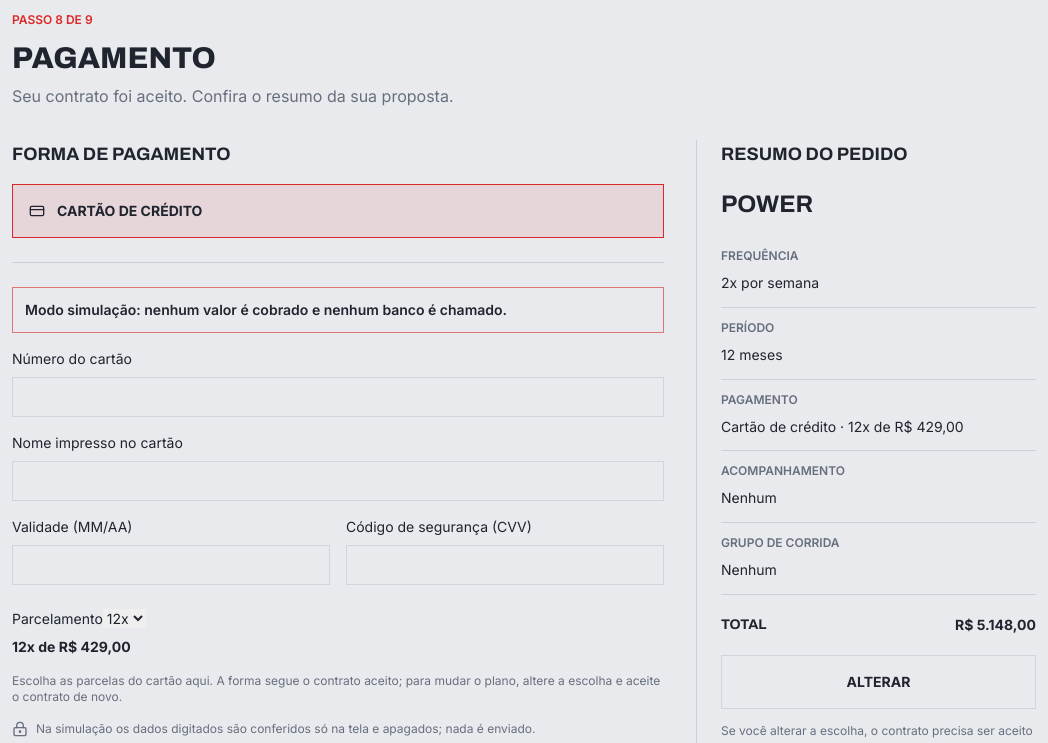
Test: parcelas escolhidas na etapa final de pagamento › trocar para 6x recalcula o valor na hora e envia a escolha ao servidor
Later steps or results of the test are not shown.
Select "6x" in the dropdown labelled "Parcelamento 12x de R$ 429,00" at x=124, y=618, box [103,609,146,628]
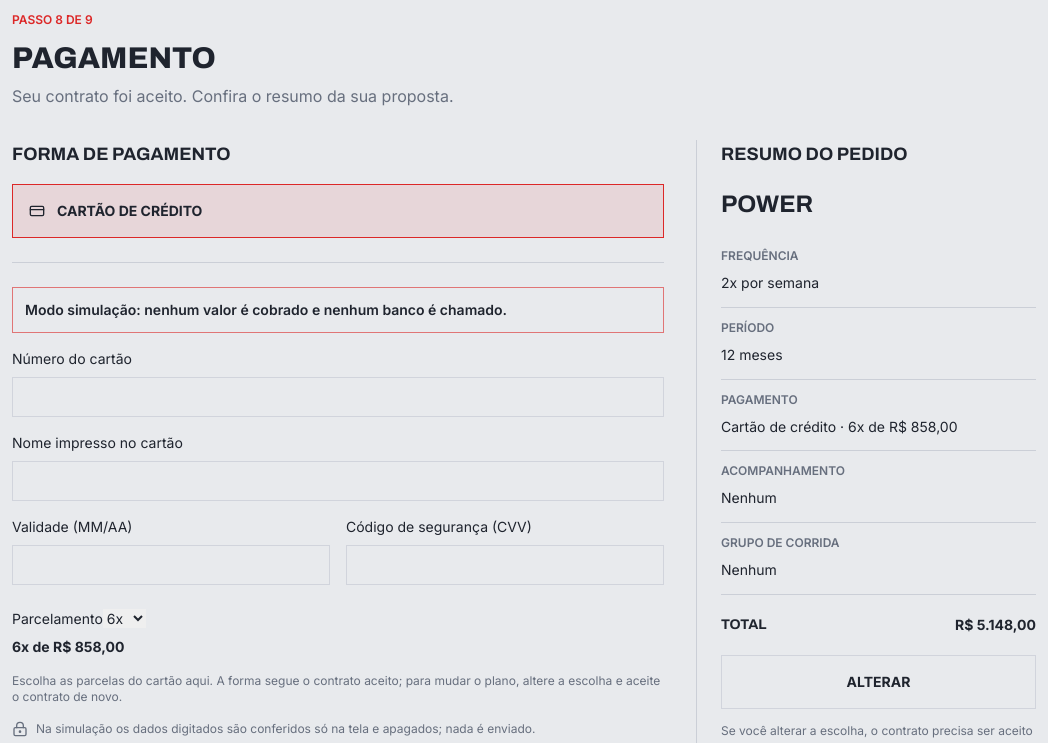
Now the text "6x de R$ 858,00" is shown, box [12,638,124,655]
